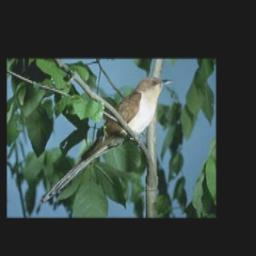Cuckoo: (39, 74, 177, 207)
